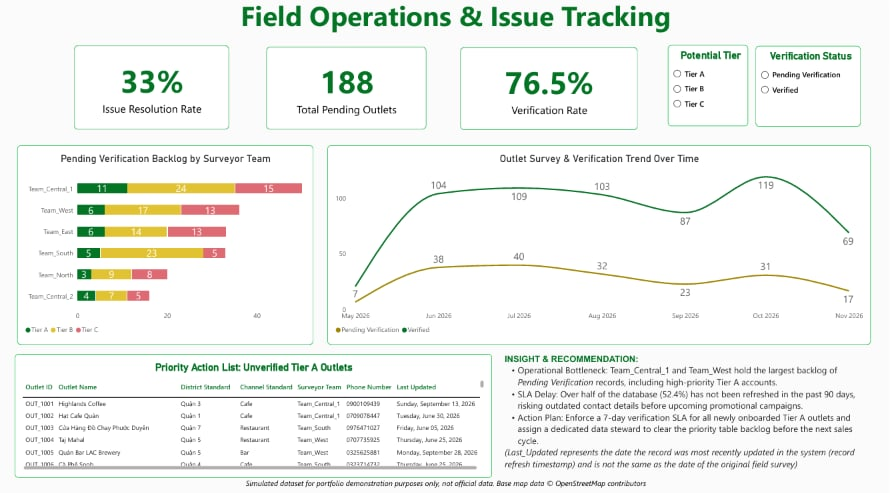

What the dashboard file says about the page in this screenshot:
{"tool":"powerbi","page":{"name":"Field Operations & Issue Tracking","canvas":[1920,1080],"ordinal":2},"visuals":[{"type":"cardVisual","fields":{"Data":["_Measures.3. Verification Rate"]},"box":[1000,122.5,380,177.5],"z":0},{"type":"lineChart","title":"Outlet Record Refresh Trend by Verification Status","fields":{"Category":["Calendar.Date.Variation.Date Hierarchy.Year","Calendar.Date.Variation.Date Hierarchy.Month"],"Series":["Outlets.Verification_Status"],"Y":["_Measures.1. Total Outlets"]},"box":[715,332.5,1165,427.5],"z":1000},{"type":"barChart","title":"Pending Verification Backlog by Surveyor Team","fields":{"Category":["Outlets.Surveyor_Team"],"Series":["Outlets.Potential_Tier"],"Y":["_Measures.Total Pending Outlets"]},"box":[50,332.5,635,427.5],"z":2000},{"type":"textbox","box":[540,1045.7,1110,35],"z":3000},{"type":"cardVisual","fields":{"Data":["_Measures.Total Pending Outlets"]},"box":[584.2,121.7,342.5,177.5],"z":4000},{"type":"textbox","box":[490,15,999.7,85.9],"z":5000},{"type":"cardVisual","fields":{"Data":["_Measures.7. Issue Resolution Rate"]},"box":[171.7,119.2,332.5,180],"z":6000},{"type":"tableEx","title":" Priority Action List: Unverified Tier A Outlets","fields":{"Values":["Outlets.Outlet_ID","Outlets.Outlet_Name","Dim_District.District_Standard","Dim_Channel.Channel_Standard","Outlets.Surveyor_Team","Outlets.Phone_Clean","Outlets.Last_Updated"]},"box":[45,780,1022.5,265],"z":7000},{"type":"listSlicer","title":"Potential Tier","fields":{"Values":["Outlets.Potential_Tier"]},"box":[1445.1,117.7,171.8,174.2],"z":8000},{"type":"listSlicer","title":"Verification Status","fields":{"Values":["Outlets.Verification_Status"]},"box":[1650,117.5,225,172.5],"z":9000},{"type":"textbox","box":[1095,780,760,247.5],"z":10000}]}

Visuals, with their boxes in screenshot pixels (x1, y1, x2, y2), scaled from the page's 1920x1080 canvas onto the 891x493 screenshot:
cardVisual - _Measures.3. Verification Rate: <box>464,56,640,137</box>
"Outlet Record Refresh Trend by Verification Status" lineChart: <box>332,152,872,347</box>
"Pending Verification Backlog by Surveyor Team" barChart: <box>23,152,318,347</box>
textbox: <box>251,477,766,492</box>
cardVisual - _Measures.Total Pending Outlets: <box>271,56,430,137</box>
textbox: <box>227,7,691,46</box>
cardVisual - _Measures.7. Issue Resolution Rate: <box>80,54,234,137</box>
" Priority Action List: Unverified Tier A Outlets" tableEx: <box>21,356,495,477</box>
"Potential Tier" listSlicer: <box>671,54,750,133</box>
"Verification Status" listSlicer: <box>766,54,870,132</box>
textbox: <box>508,356,861,469</box>
